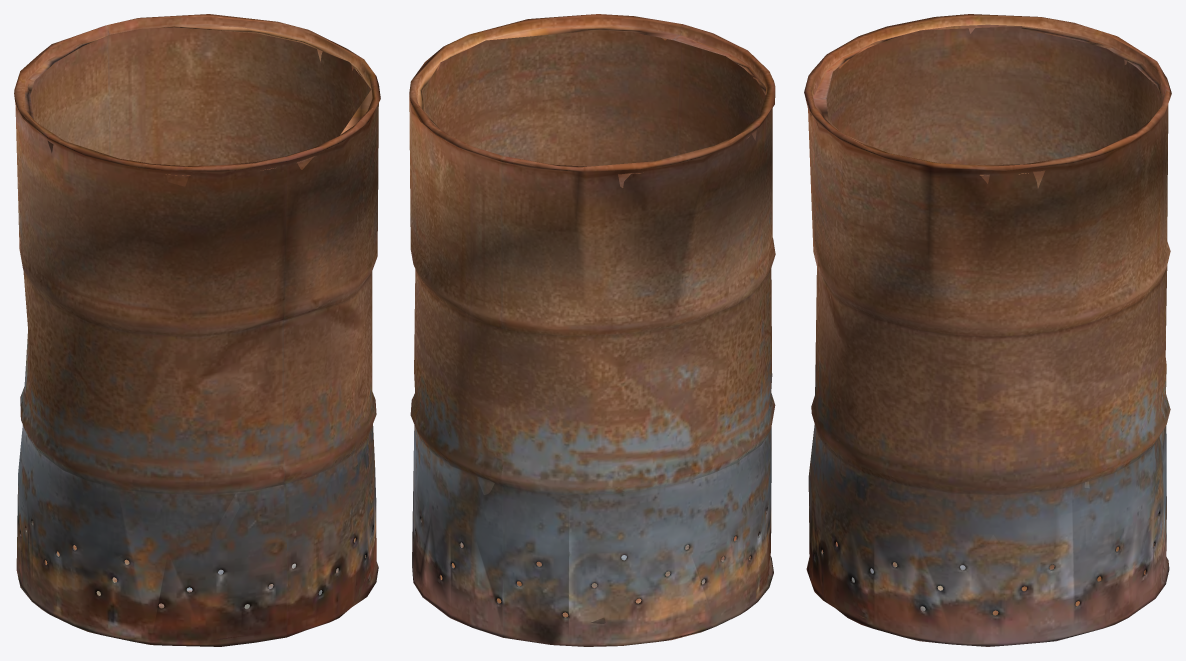
Rendered from barrel_stove.glb.
3 views of the same model, side by side, from view 1: azimuth 30°, elevation 25°; view 2: azimuth 150°, elevation 25°; view 3: azimuth 270°, elevation 25° (orthographic).
Parts seen in each view (by area): view 1: barrel_stove; view 2: barrel_stove; view 3: barrel_stove.
Part boxes in pixels (bbox=[...]): barrel_stove: bbox=[14, 14, 380, 646]; barrel_stove: bbox=[409, 14, 775, 646]; barrel_stove: bbox=[804, 14, 1171, 646].
Bounding box in the file's own units: 0.5886 × 0.8556 × 0.5926.
1 material, 1 textured.
